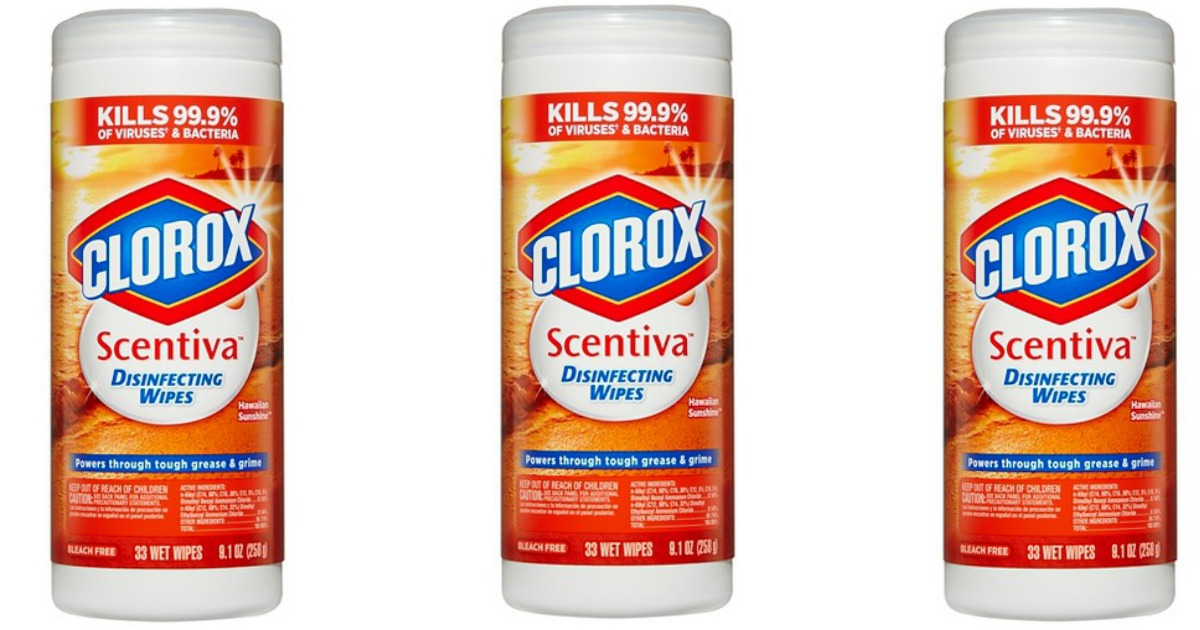Wipes: (36, 4, 296, 625), (933, 2, 1184, 630), (491, 2, 744, 621)
